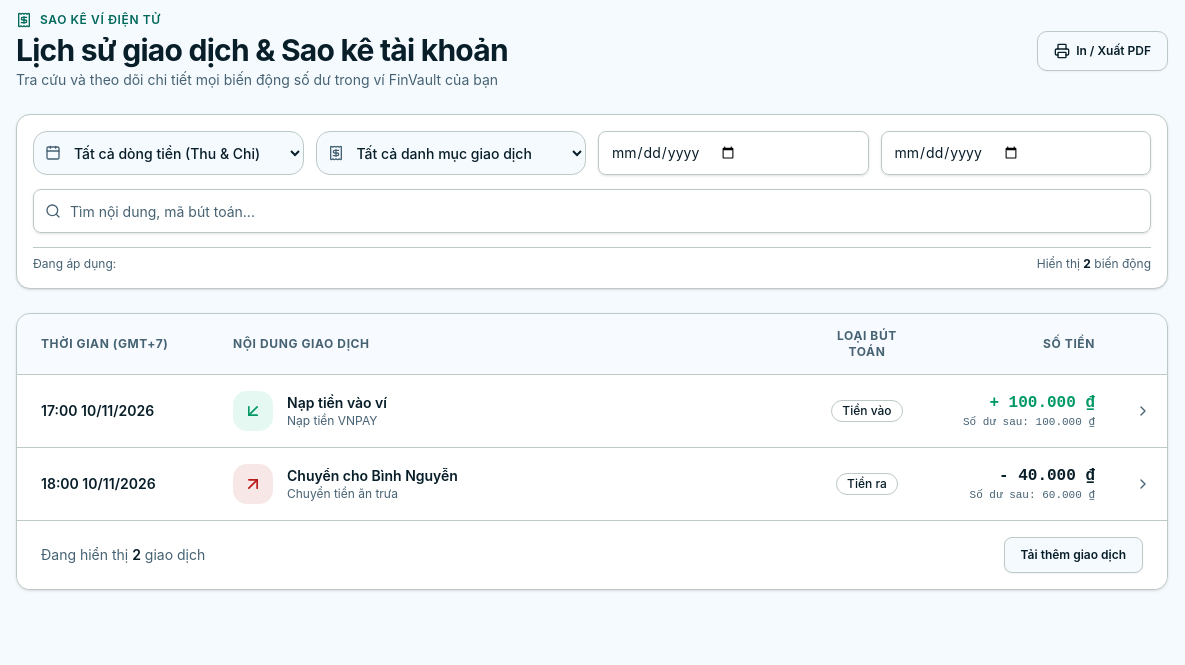
Test: TransactionsPage - Cursor Pagination & Ledger [K22-1] › phân trang cursor: tải 2 trang, ghép đúng thứ tự, không trùng lặp, hết trang nút tải thêm biến mất
Expected: the text "Chuyển cho Bình Nguyễn" is shown, [287,466,458,486]
Expected: the text "+ 100.000 ₫" is shown, [989,394,1095,412]
# Bấm tải thêm trang 2
Click the button "Tải thêm giao dịch".
click(1073, 555)  # box [1004,537,1143,573]
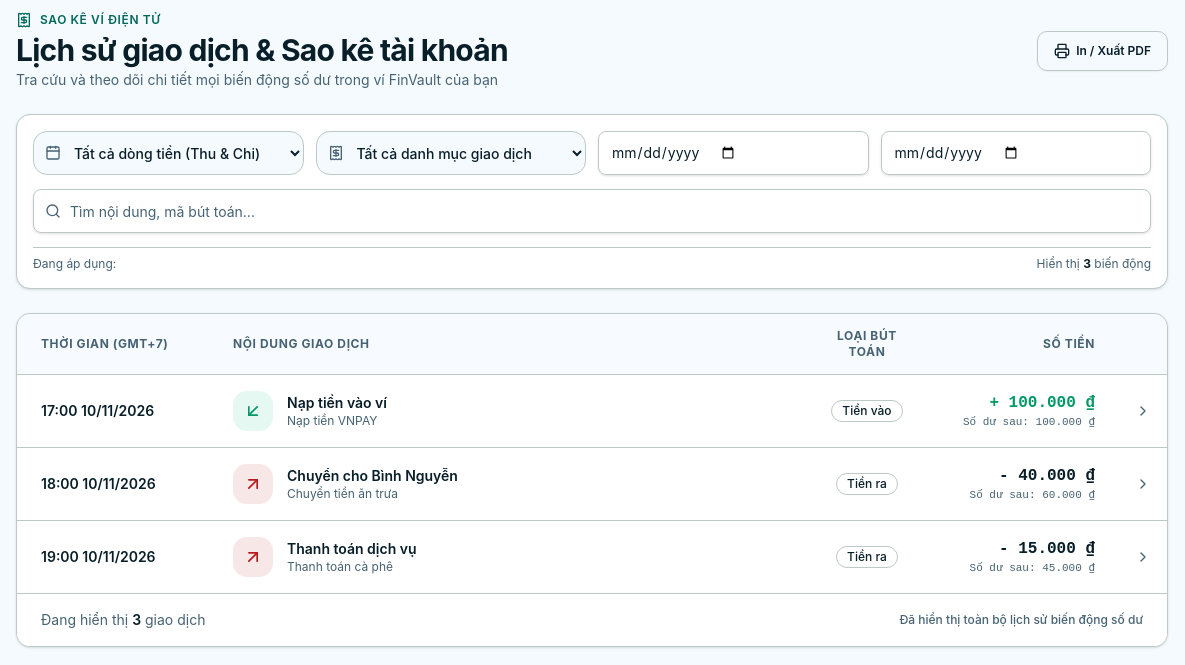
Expected: the text "- 15.000 ₫" is shown, [999,540,1095,558]
Expected: the button "Tải thêm giao dịch" is gone
Expected: the text "Đã hiển thị toàn bộ lịch sử biến động số dư" is shown, [899,612,1143,628]
